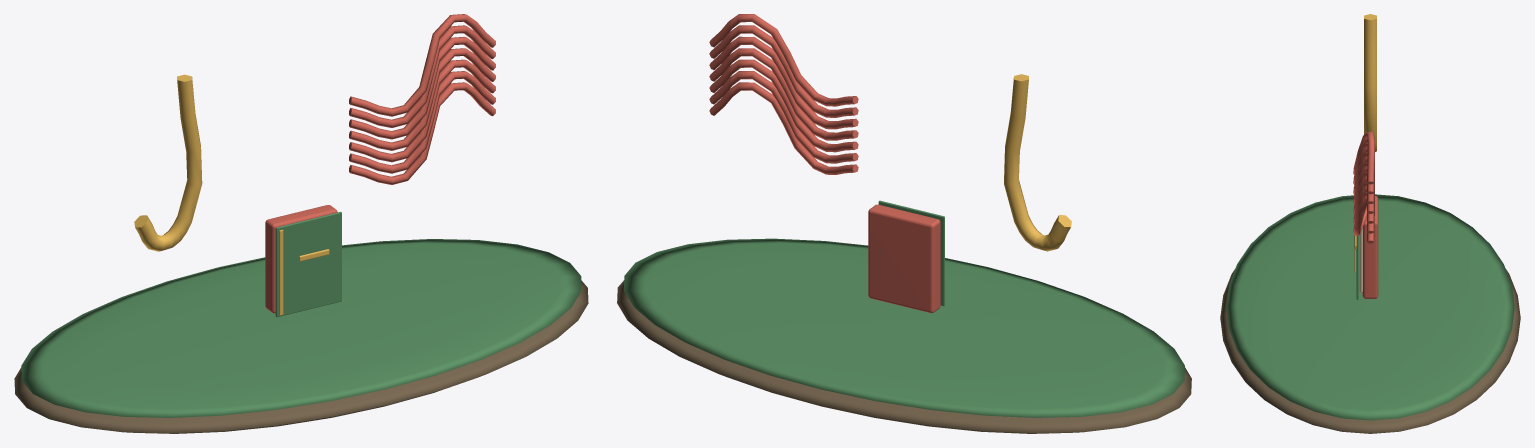
File: complete-first-finished-untangling.glb
The picture shows the model from 3 angles, left to right: view 1: azimuth 30°, elevation 25°; view 2: azimuth 150°, elevation 25°; view 3: azimuth 270°, elevation 25°; orthographic projection. The views are drawn at different scales.
Visible parts, largest first — view 1: complete-first-finished-untangling_surface_01, complete-first-finished-untangling_surface_03, complete-first-finished-untangling_surface_00, complete-first-finished-untangling_surface_02; view 2: complete-first-finished-untangling_surface_01, complete-first-finished-untangling_surface_03, complete-first-finished-untangling_surface_00, complete-first-finished-untangling_surface_02; view 3: complete-first-finished-untangling_surface_01, complete-first-finished-untangling_surface_00, complete-first-finished-untangling_surface_03, complete-first-finished-untangling_surface_02.
Boxes of the visible parts, x1,y1,x2,y2 form: complete-first-finished-untangling_surface_01: (21, 211, 581, 417); complete-first-finished-untangling_surface_03: (265, 14, 495, 313); complete-first-finished-untangling_surface_00: (14, 280, 588, 433); complete-first-finished-untangling_surface_02: (134, 74, 329, 315); complete-first-finished-untangling_surface_01: (624, 200, 1184, 417); complete-first-finished-untangling_surface_03: (709, 14, 940, 313); complete-first-finished-untangling_surface_00: (617, 280, 1191, 433); complete-first-finished-untangling_surface_02: (1004, 74, 1071, 251); complete-first-finished-untangling_surface_01: (1226, 194, 1514, 420); complete-first-finished-untangling_surface_00: (1220, 269, 1520, 433); complete-first-finished-untangling_surface_03: (1353, 131, 1378, 298); complete-first-finished-untangling_surface_02: (1354, 14, 1376, 272).
Bounding box in the file's own units: 4.56 × 2.44 × 2.5.
